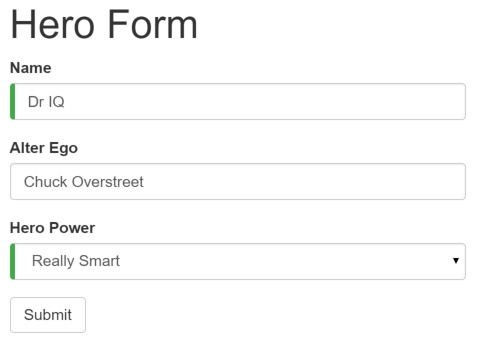_form_: (1, 1, 474, 336)
button: (9, 296, 88, 334)
field: (9, 242, 468, 281), (9, 82, 467, 121), (9, 163, 467, 201)
field_with_label: (7, 59, 469, 122), (7, 140, 468, 202), (7, 221, 470, 282)
